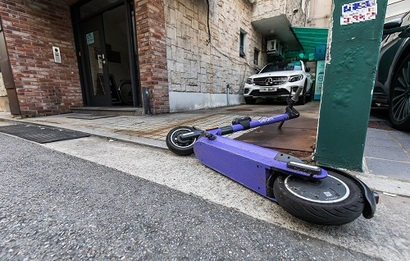scooter: (162, 101, 373, 220)
